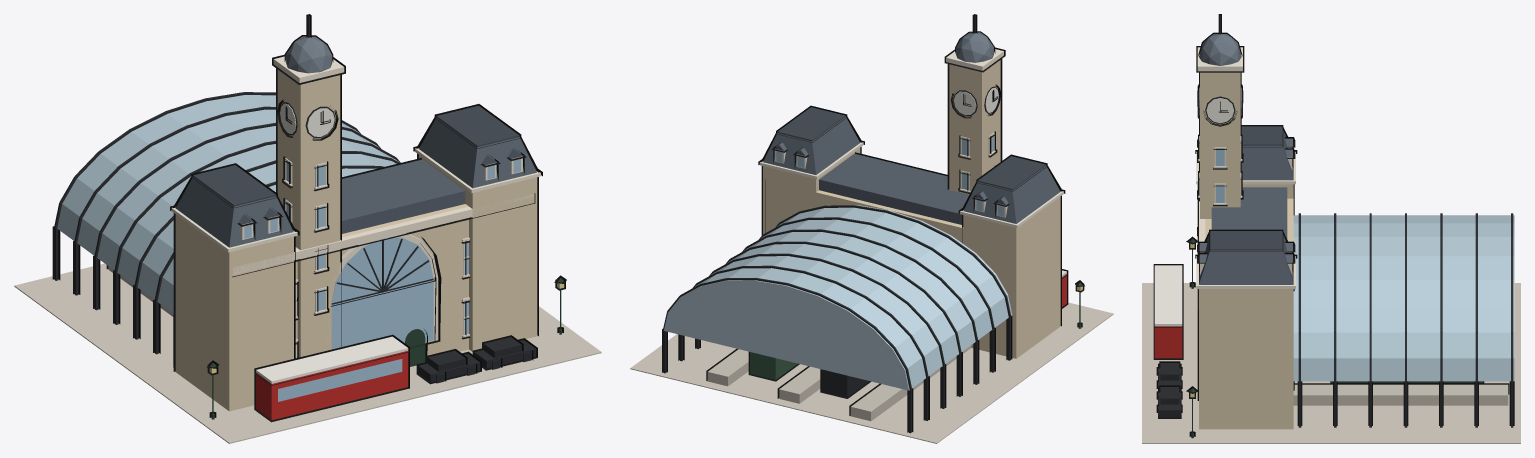
The model's file is Simge_gar.fbx.
The picture shows the model from 3 angles, left to right: view 1: azimuth 30°, elevation 25°; view 2: azimuth 150°, elevation 25°; view 3: azimuth 270°, elevation 25°; orthographic projection. The views are drawn at different scales.
Visible parts, largest first — view 1: Simge_gar; view 2: Simge_gar; view 3: Simge_gar.
Boxes of the visible parts, x1,y1,x2,y2 form: Simge_gar: [14, 14, 601, 443]; Simge_gar: [630, 14, 1113, 443]; Simge_gar: [1142, 14, 1520, 443].
Bounding box in the file's own units: 30 × 28.18 × 30.
